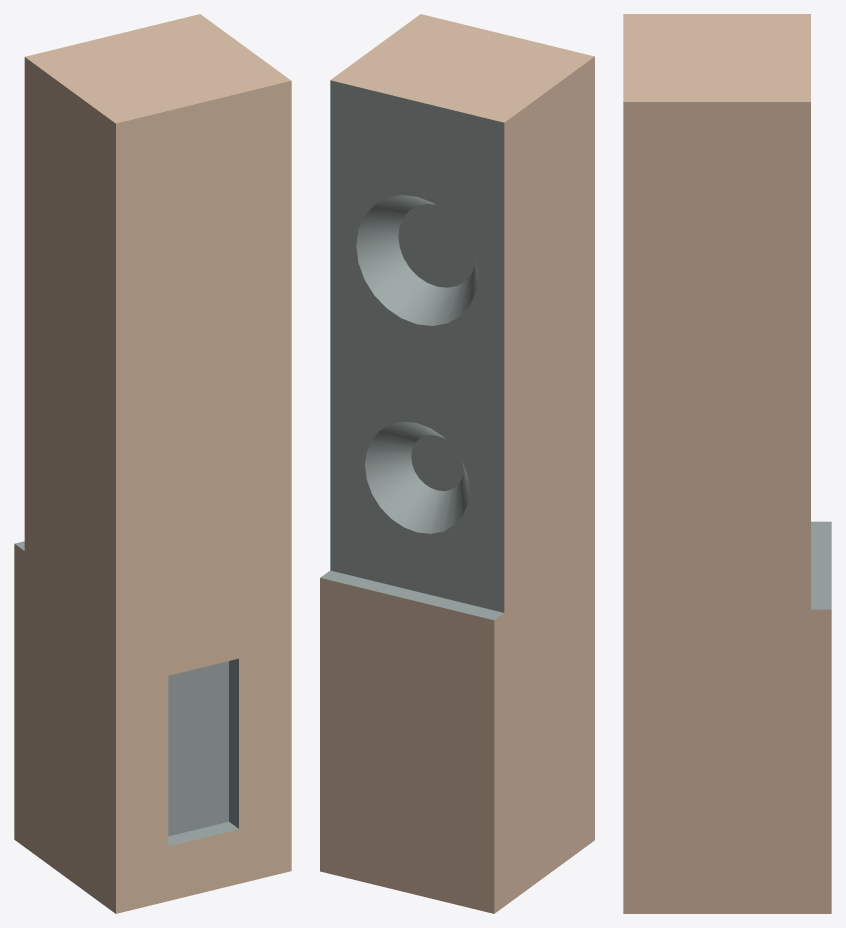
File: speaker.glb
The picture shows the model from 3 angles, left to right: view 1: azimuth 30°, elevation 25°; view 2: azimuth 150°, elevation 25°; view 3: azimuth 270°, elevation 25°; orthographic projection. The views are drawn at different scales.
Visible parts, largest first — view 1: speaker(Clone); view 2: speaker(Clone); view 3: speaker(Clone).
Part boxes in pixels (x1=…): speaker(Clone): x1=14, y1=14, x2=291, y2=913; speaker(Clone): x1=320, y1=14, x2=594, y2=913; speaker(Clone): x1=623, y1=14, x2=831, y2=913.
Bounding box in the file's own units: 0.3108 × 1.34 × 0.3108.
